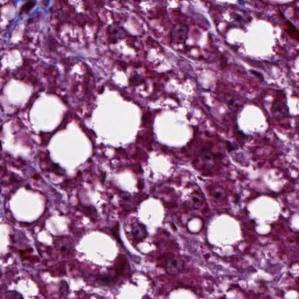steatosis: (88, 92, 144, 144), (50, 125, 94, 169), (4, 186, 48, 220), (205, 214, 246, 243)
